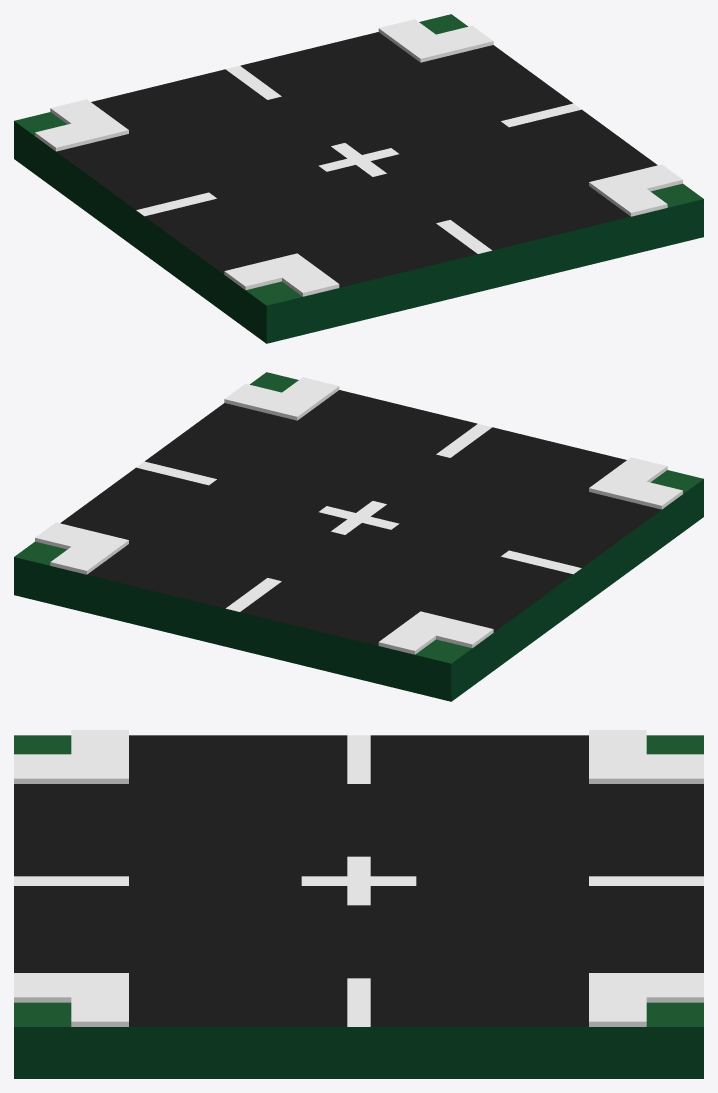
File: intersection.glb
3 views of the same model, one above another, from view 1: azimuth 30°, elevation 25°; view 2: azimuth 150°, elevation 25°; view 3: azimuth 270°, elevation 25° (orthographic). The views are drawn at different scales.
Visible parts, largest first — view 1: intersection; view 2: intersection; view 3: intersection.
Boxes of the visible parts, left/top/right/bottom form: intersection: left=14, top=14, right=703, bottom=343; intersection: left=14, top=372, right=703, bottom=701; intersection: left=14, top=730, right=703, bottom=1078.
Bounding box in the file's own units: 12 × 1.1 × 12.
1 material, 1 textured.
